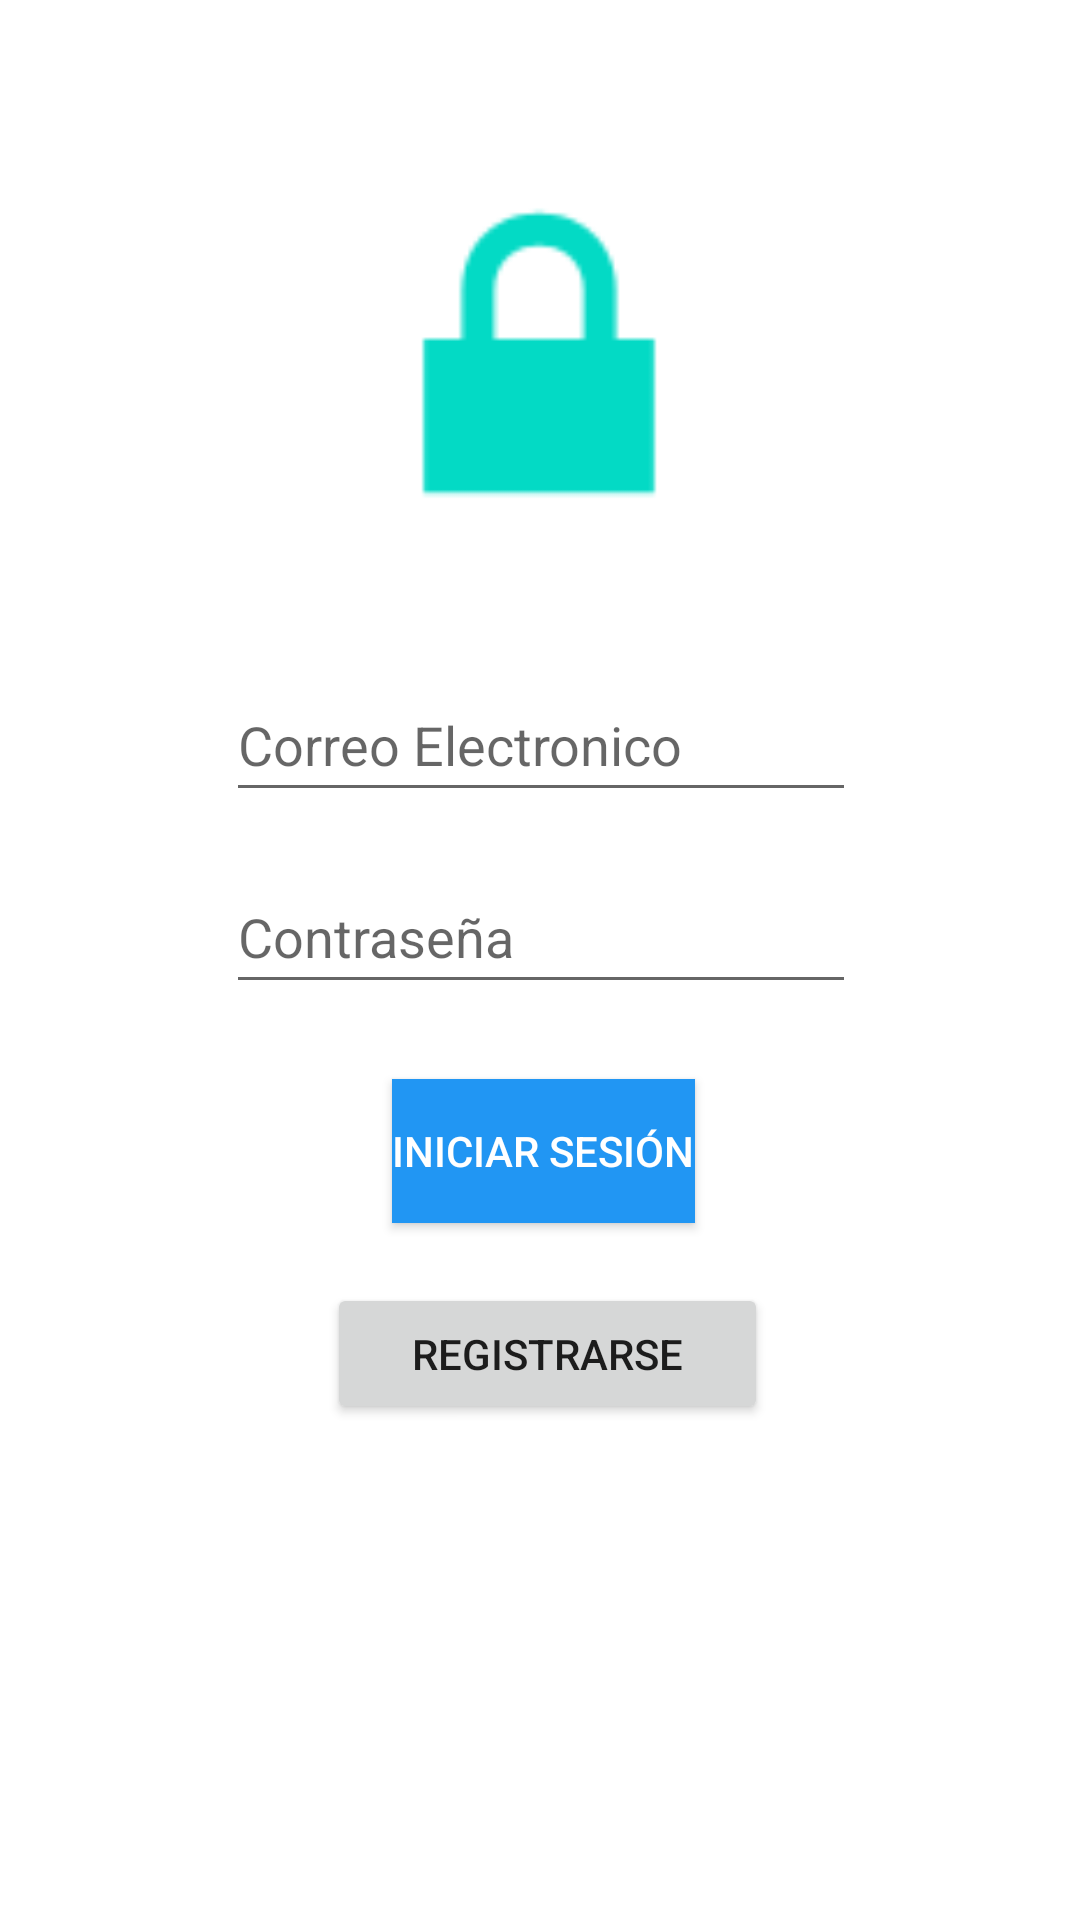

Screen size 1080x1920. Icon name, then its box in pixels as (x1, y1, x2, y2):
lock: (422, 210, 656, 496)
